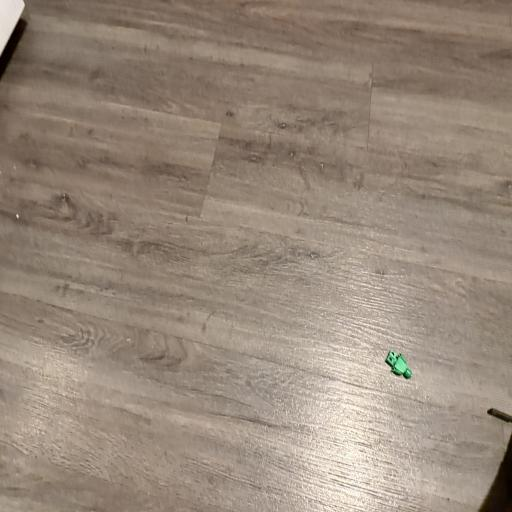Minifig: (386, 351, 412, 378)
